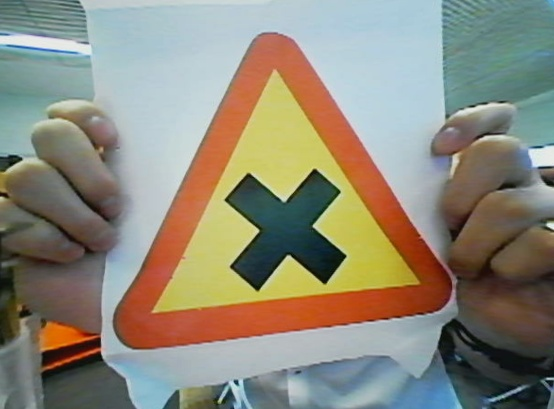junction: (110, 30, 456, 342)
